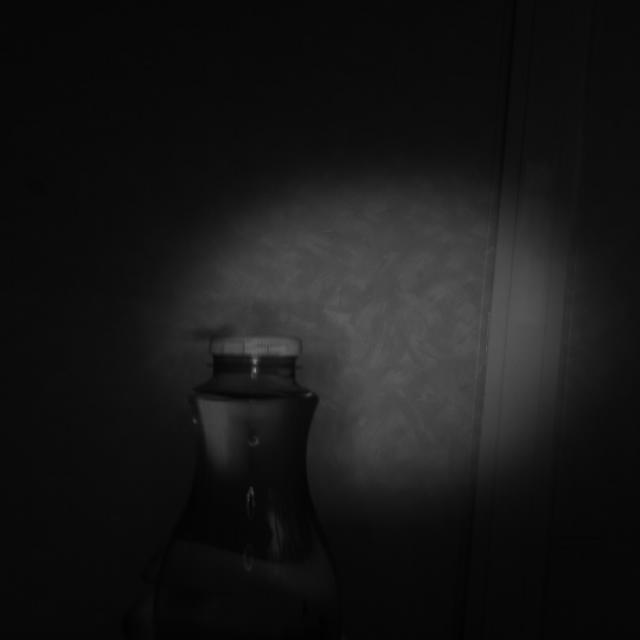Not Good: (206, 333, 304, 369)
